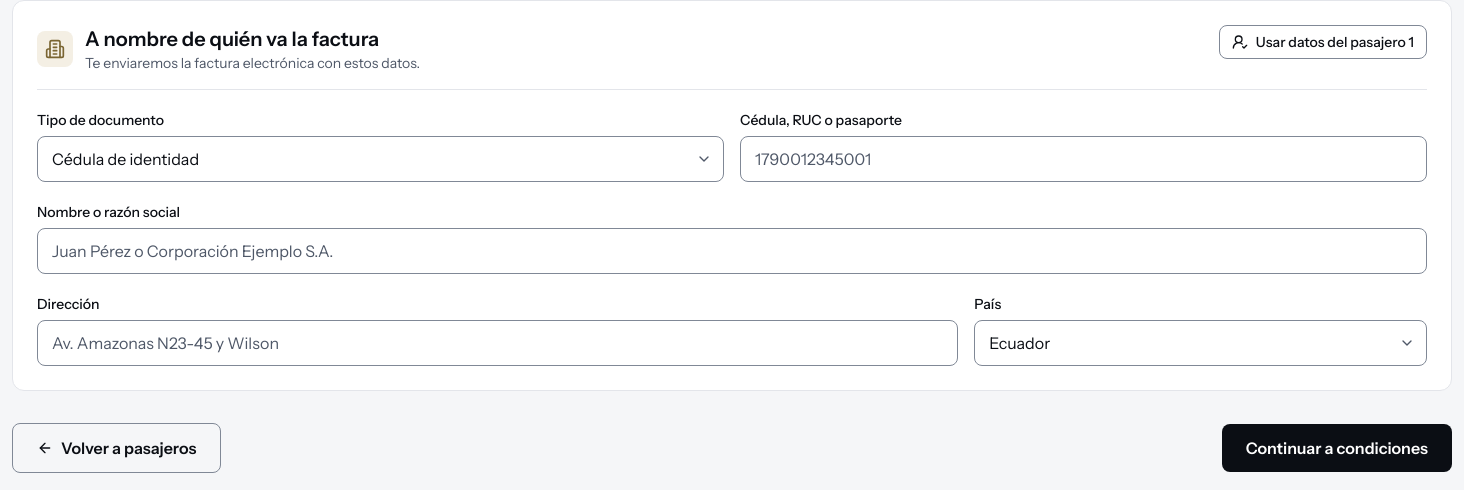
Test: BillingForm › copies the name and document of passenger 1 with one button
The image size is (1464, 490).
Click the button "Usar datos del pasajero 1". click: (1323, 42)
box: [1219, 25, 1427, 59]
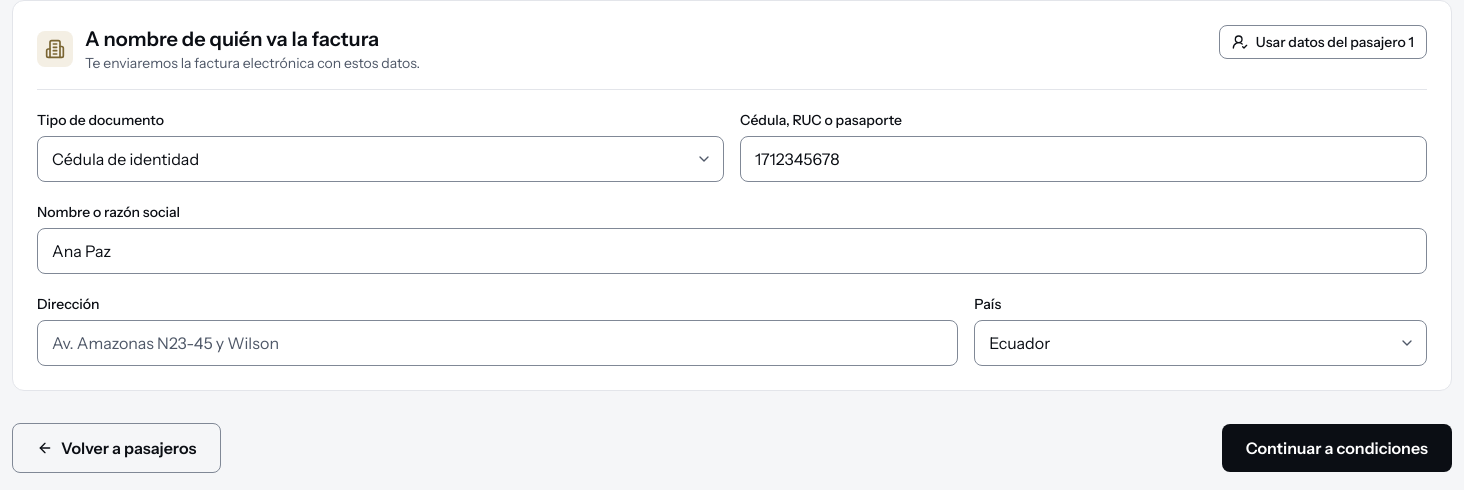
Expected: the dropdown labelled "Tipo de documento" shows "Cédula de identidad", [37, 136, 724, 182]
Expected: the field labelled "Nombre o razón social" holds "Ana Paz", [37, 228, 1427, 274]
Expected: the field labelled "Cédula, RUC o pasaporte" holds "1712345678", [740, 136, 1427, 182]
